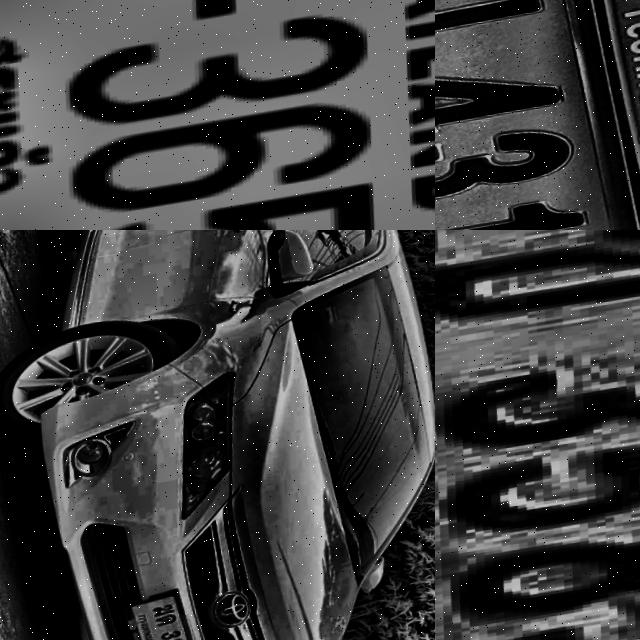license-plate: (0, 0, 435, 230), (435, 230, 640, 640), (435, 0, 640, 230), (116, 594, 208, 640)
